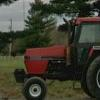Tractor: (19, 18, 100, 95)
